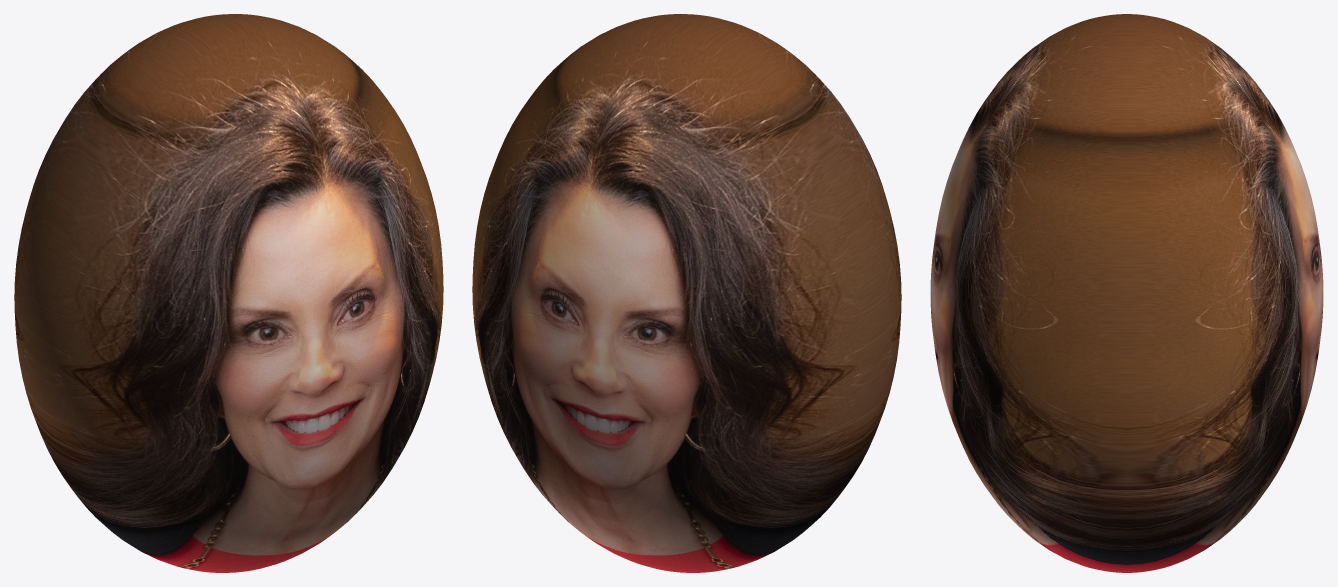
3 views of the same model, side by side, from view 1: azimuth 30°, elevation 25°; view 2: azimuth 150°, elevation 25°; view 3: azimuth 270°, elevation 25° (orthographic).
Visible parts, largest first — view 1: head; view 2: head; view 3: head.
Part boxes in pixels (<box>): head: <box>14,14,443,572</box>; head: <box>472,14,901,572</box>; head: <box>930,14,1323,572</box>.
Bounding box in the file's own units: 1.5 × 2 × 1.35.
Materials: 1 (1 with a texture image).
